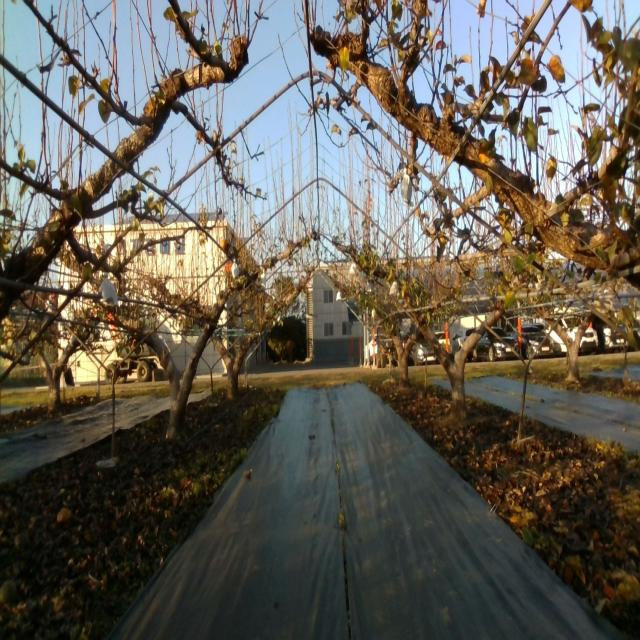pearbags: (100, 272, 120, 308), (400, 167, 412, 208)
